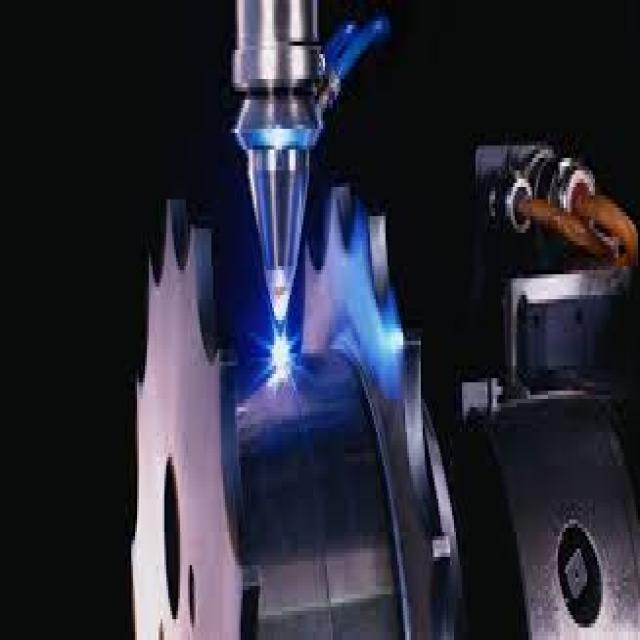welding: (272, 334, 292, 372)
